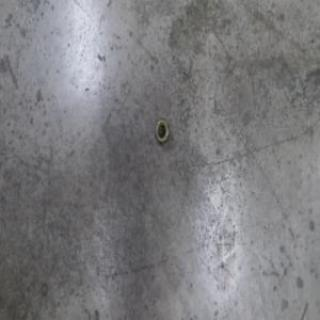Nuttrack_idkeyframe: (153, 115, 169, 147)
